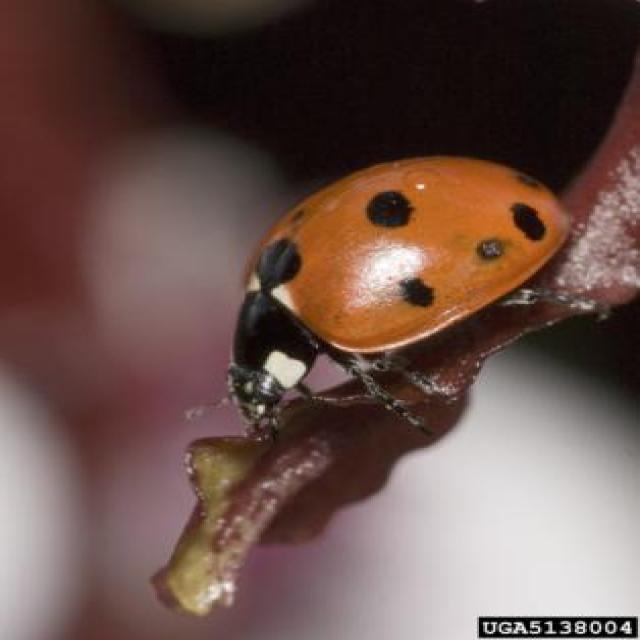antennae: (180, 381, 236, 426)
body: (239, 160, 569, 408)
insect: (226, 153, 568, 424)
legs: (310, 338, 464, 434), (496, 278, 624, 324)
mouthpart: (235, 408, 285, 445)
wings: (243, 155, 568, 353)
